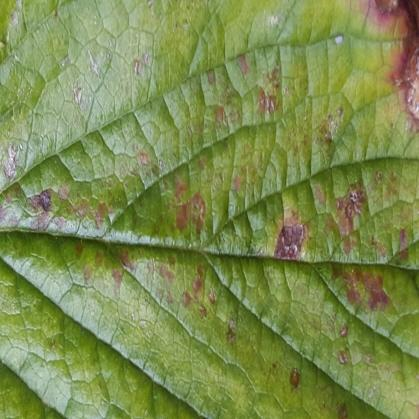Angular Leafspot: (0, 0, 418, 418)
